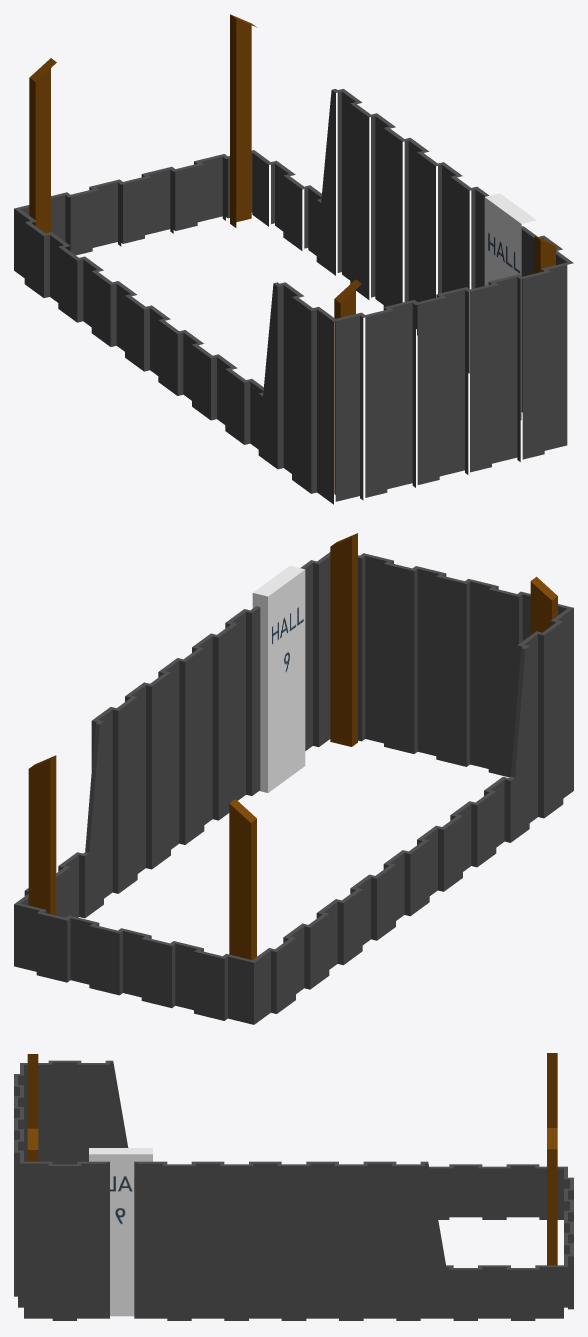
The model's file is Hall_9.fbx.
3 renders of one model, top to bottom at view 1: azimuth 30°, elevation 25°; view 2: azimuth 150°, elevation 25°; view 3: azimuth 270°, elevation 25°, orthographic. The views are drawn at different scales.
Visible parts, largest first — view 1: Hall_9; view 2: Hall_9; view 3: Hall_9.
Boxes of the visible parts, <box> form: Hall_9: <box>14,14,573,504</box>; Hall_9: <box>14,533,573,1024</box>; Hall_9: <box>14,1053,573,1320</box>.
Size of the model in its own units: 167 by 134 by 376.
